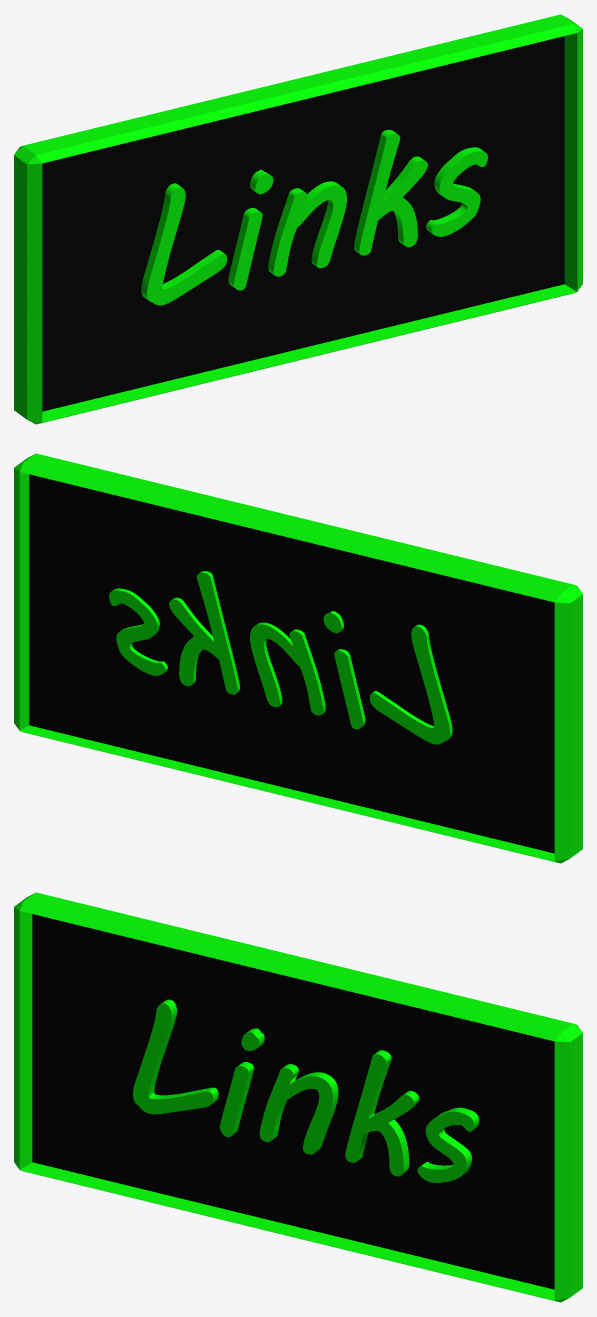
File: links.gltf
3 renders of one model, top to bottom at view 1: azimuth 30°, elevation 25°; view 2: azimuth 150°, elevation 25°; view 3: azimuth 330°, elevation 25°, orthographic.
Parts seen in each view (by area): view 1: Cube, Resume; view 2: Cube, Resume; view 3: Cube, Resume.
Boxes of the visible parts, x1,y1,x2,y2 form: Cube: (14,14,582,424); Resume: (141,129,487,305); Cube: (14,453,582,863); Resume: (109,571,452,744); Cube: (14,892,582,1302); Resume: (133,999,479,1182).
Bounding box in the file's own units: 3.04 × 1.41 × 0.2142.
